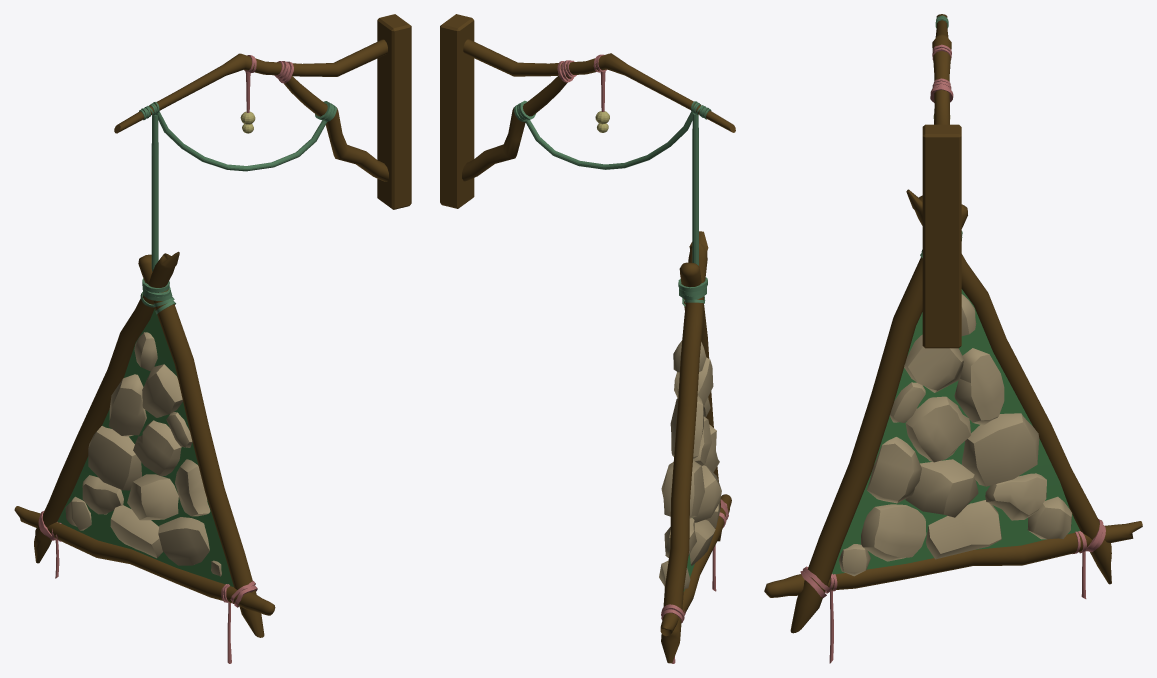
File: SM_Effigy.fbx
3 renders of one model, left to right at view 1: azimuth 30°, elevation 25°; view 2: azimuth 150°, elevation 25°; view 3: azimuth 270°, elevation 25°, orthographic. The views are drawn at different scales.
Visible parts, largest first — view 1: SM_Effigy; view 2: SM_Effigy; view 3: SM_Effigy.
Part boxes in pixels (bbox=[...]): SM_Effigy: bbox=[14, 14, 411, 663]; SM_Effigy: bbox=[440, 14, 735, 663]; SM_Effigy: bbox=[764, 14, 1142, 663].
Bounding box in the file's own units: 77.52 × 136 × 70.39.
